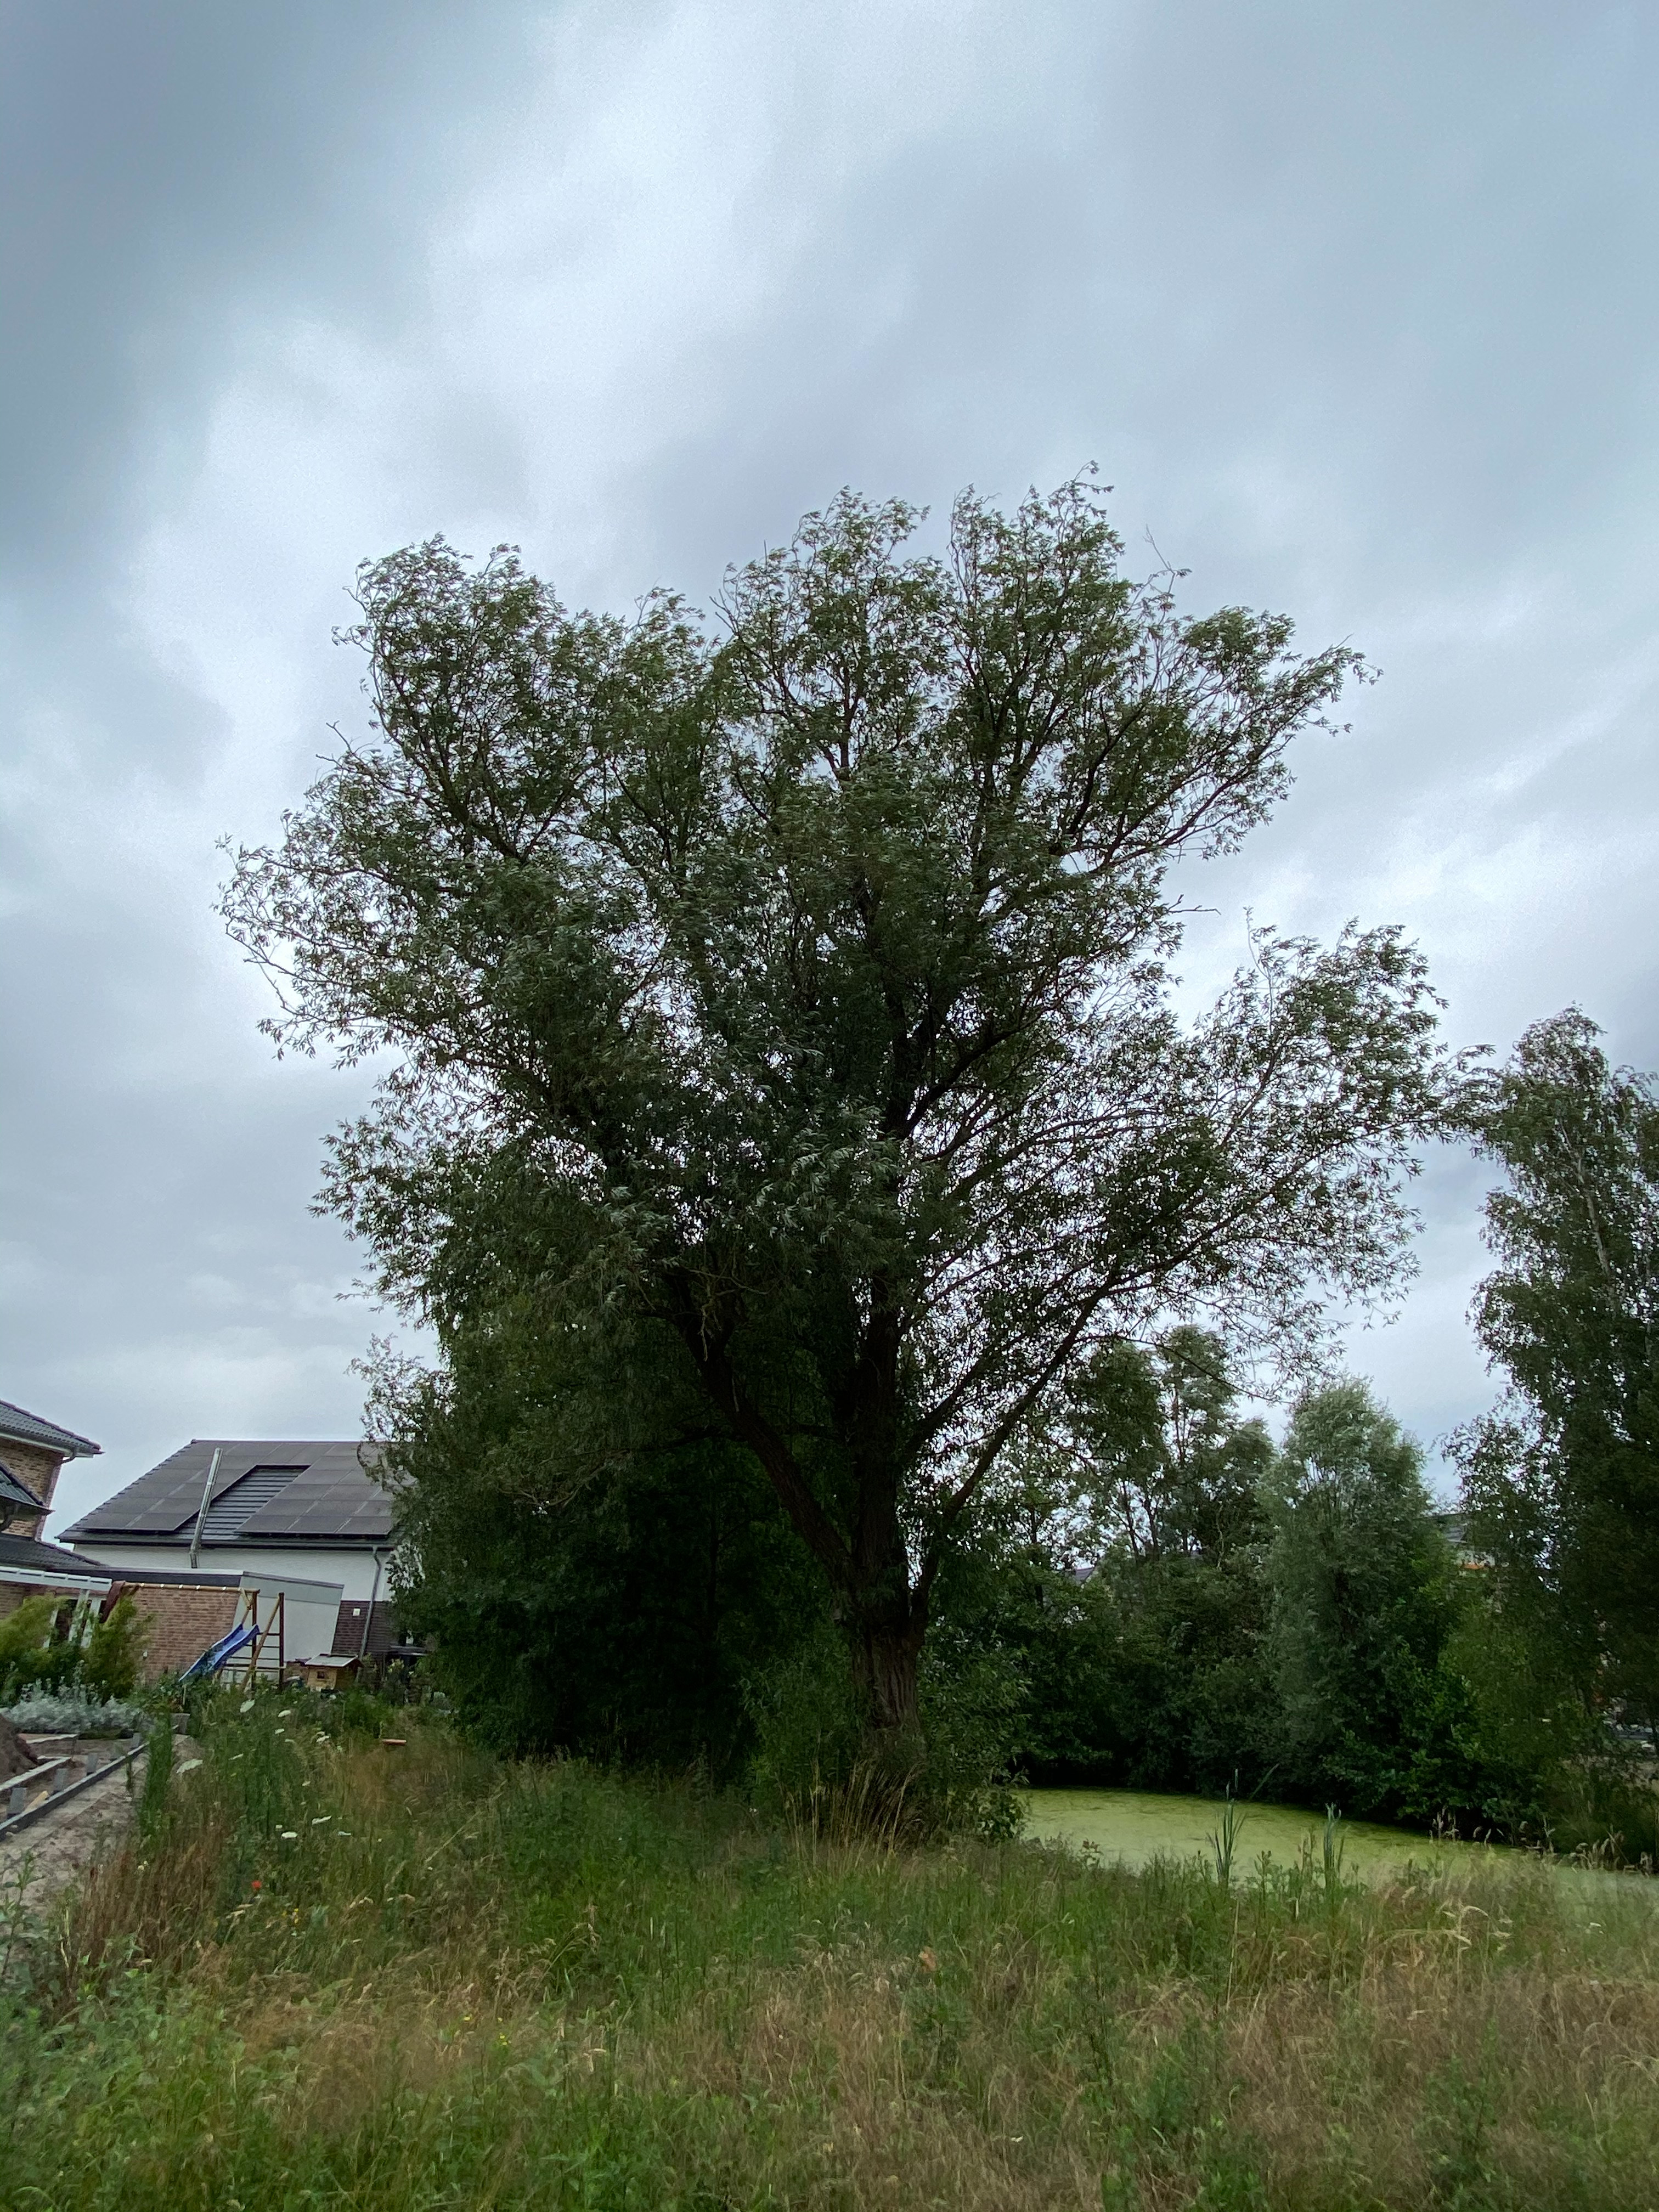tree: (211, 458, 1492, 1848), (364, 1125, 962, 1799), (1439, 1000, 1659, 1756), (1241, 1362, 1481, 1818), (1058, 1324, 1277, 1649), (951, 1425, 1124, 1770)
